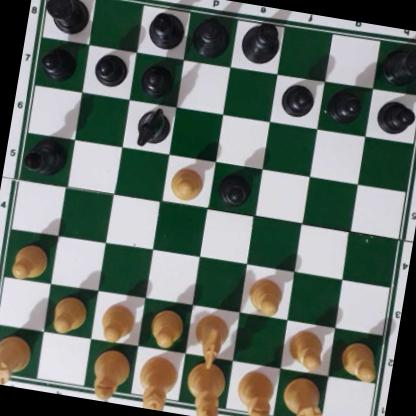black-bishop: (20, 134, 71, 178), (144, 7, 189, 50)
black-king: (238, 15, 284, 64)
black-knight: (133, 102, 172, 146)
black-pawn: (375, 95, 416, 137), (215, 168, 253, 207), (278, 80, 316, 118), (39, 43, 78, 80), (327, 86, 364, 124), (92, 50, 128, 89), (140, 59, 175, 97)
black-queen: (189, 12, 233, 58)
black-rook: (39, 0, 93, 36), (381, 37, 416, 89)
white-bishop: (89, 344, 131, 402), (231, 368, 276, 416)
white-king: (182, 356, 228, 416)
white-knight: (188, 310, 233, 373)
white-pawn: (338, 339, 380, 381), (7, 240, 50, 281), (48, 291, 89, 334), (97, 299, 136, 344), (146, 305, 185, 348), (245, 274, 284, 317), (167, 164, 205, 203)
white-queen: (133, 351, 179, 413)
white-rook: (0, 327, 32, 388), (279, 378, 327, 416)
